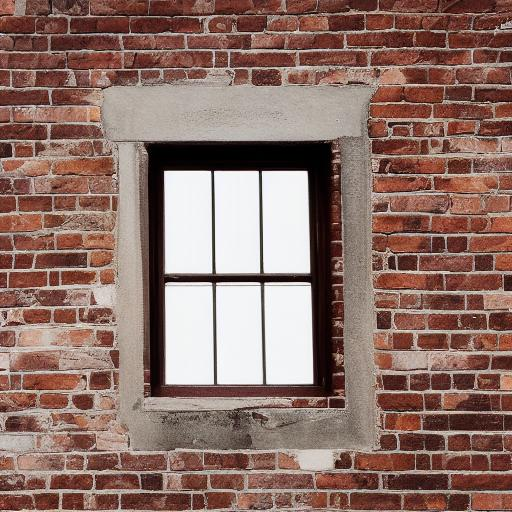Window: (94, 85, 384, 454)
